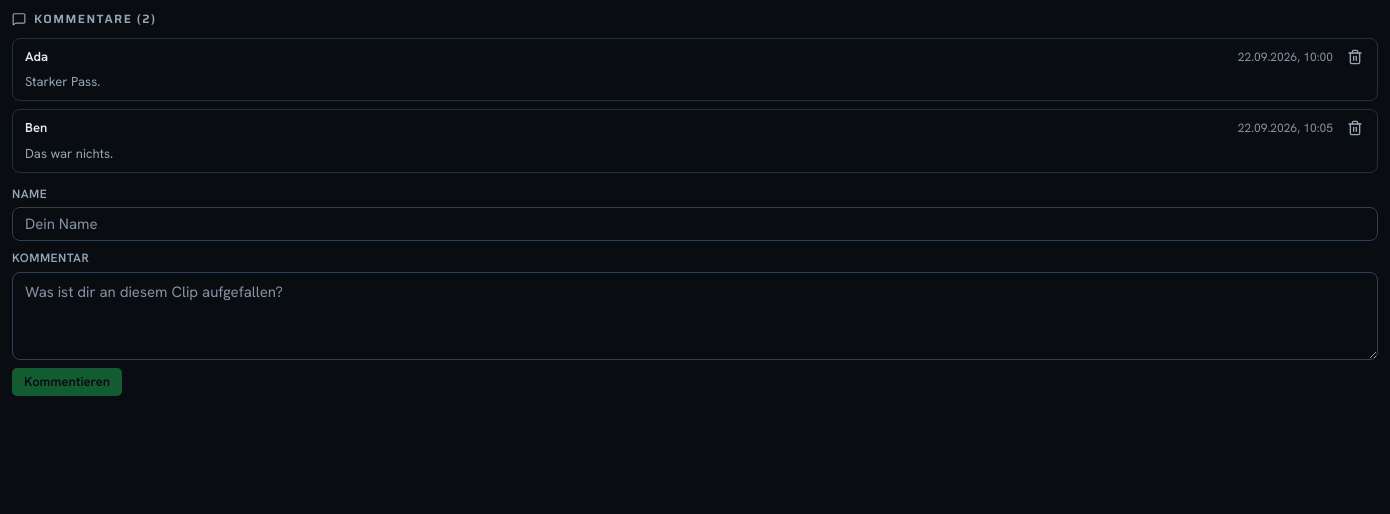
Test: CommentThread delete (coach) › keeps the comment and says so when the delete fails
Expected: the text "Das war nichts." is shown, [25,145,113,162]
Click the button named "Kommentar von Ben löschen": (1355, 128) [1341,114,1369,142]
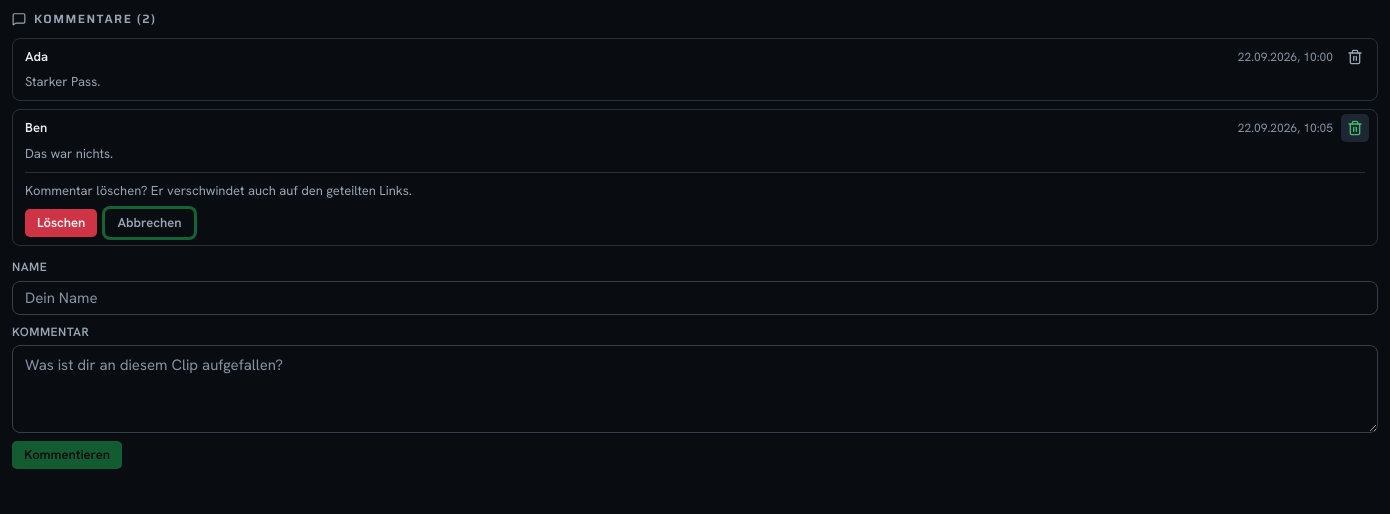
Click the button "Löschen": (61, 223) [25,209,97,237]
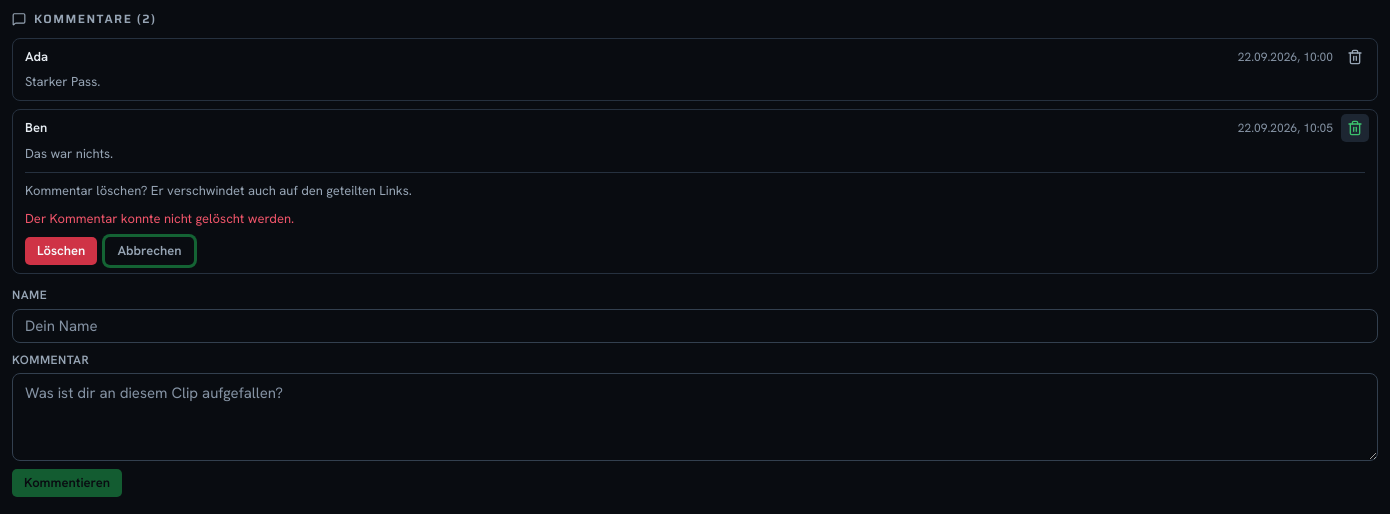
Expected: the text "Das war nichts." is shown, [25,145,113,162]
Expected: the message reads "Der Kommentar konnte nicht gelöscht werden.", [25,210,294,227]
